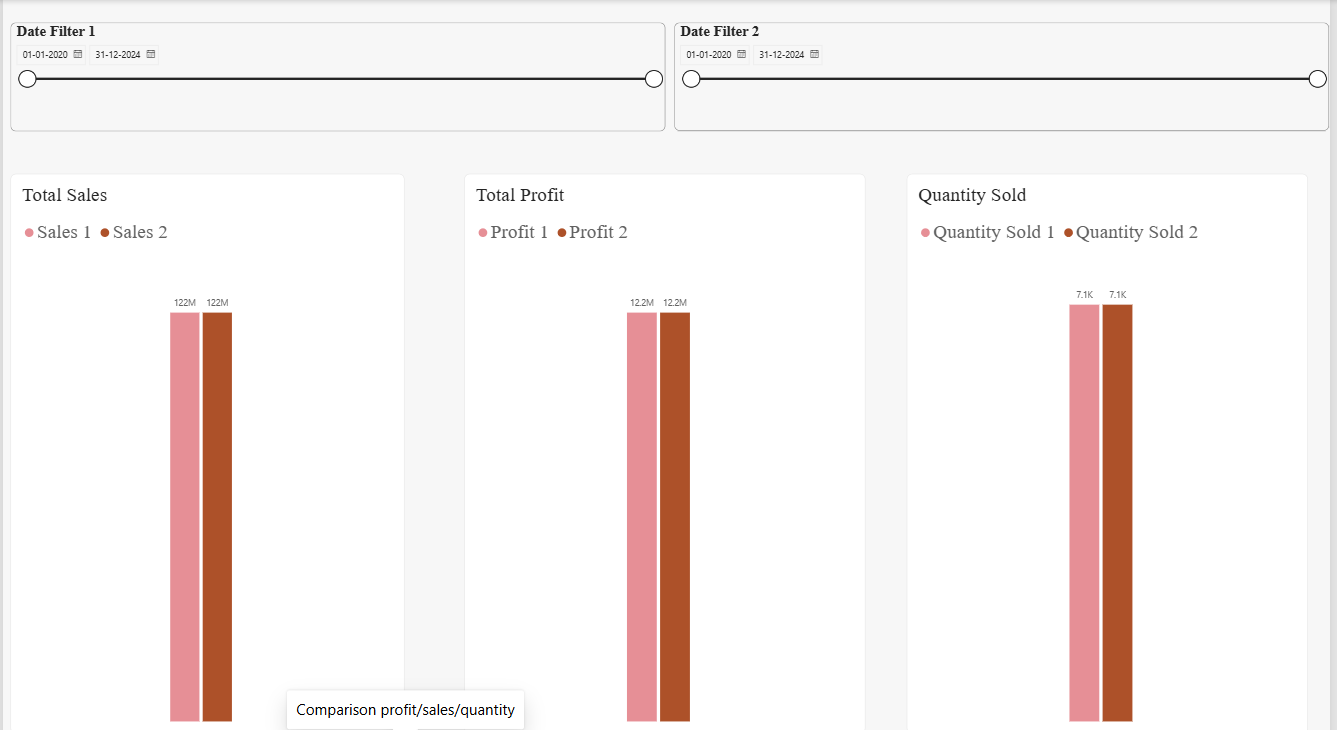

Layout of this report page (visuals, bound fields, positions):
{"tool":"powerbi","page":{"name":"Comparison profit/sales/quantity","canvas":[1920,1080],"ordinal":2},"visuals":[{"type":"slicer","fields":{"Values":["Date Table 1.Date"]},"box":[10.9,32.6,948.3,157.4],"z":0},{"type":"slicer","fields":{"Values":["Date Table 2.Date"]},"box":[971.8,32.6,948,157],"z":1},{"type":"clusteredColumnChart","title":"Total Sales","fields":{"Y":["Sum(Fact Table.Net Sales  )","Date Table 2.Sum of net sales"]},"box":[10.9,251.5,570,810.7],"z":2},{"type":"clusteredColumnChart","title":"Total Profit","fields":{"Y":["Sum(Fact Table.Profit)","Measures Table.Total Profit"]},"box":[667.8,251.5,580.9,810.7],"z":3},{"type":"clusteredColumnChart","title":"Quantity Sold","fields":{"Y":["Sum(Fact Table.Units Sold)","Measures Table.Quantity Sold"]},"box":[1308.4,251.5,580.9,810.7],"z":4}]}

Visuals, with their boxes on the page's 1920x1080 design canvas (x1, y1, x2, y2). These are canvas units, not pixel positions in the 1337x730 screenshot, which may show the page scaled, cropped or inside an application window:
slicer - Date Table 1.Date: bbox=(11, 33, 959, 190)
slicer - Date Table 2.Date: bbox=(972, 33, 1920, 190)
"Total Sales" clusteredColumnChart: bbox=(11, 252, 581, 1062)
"Total Profit" clusteredColumnChart: bbox=(668, 252, 1249, 1062)
"Quantity Sold" clusteredColumnChart: bbox=(1308, 252, 1889, 1062)
